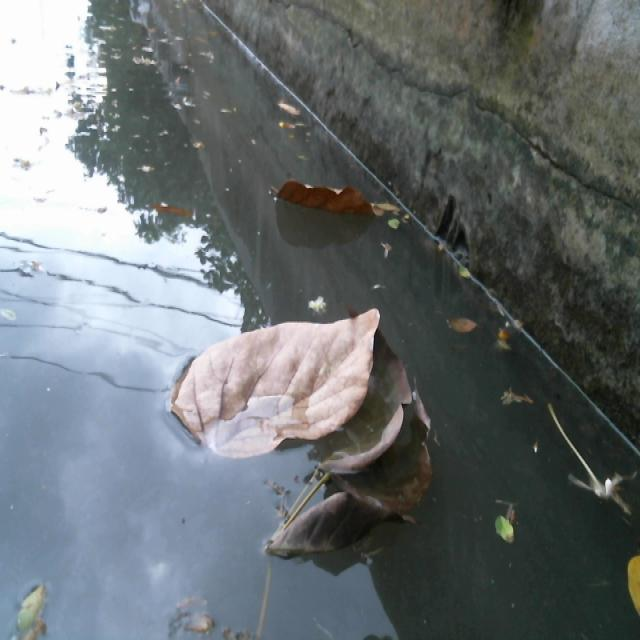Big-leaf: (135, 307, 448, 581), (268, 172, 377, 231)
Small-leaf: (18, 552, 56, 640), (438, 298, 479, 339), (147, 198, 195, 230), (502, 373, 535, 416), (492, 515, 519, 548), (627, 555, 640, 621), (488, 322, 515, 353), (275, 96, 307, 120), (458, 257, 479, 281), (281, 120, 305, 135), (385, 216, 402, 232), (433, 242, 451, 256)
